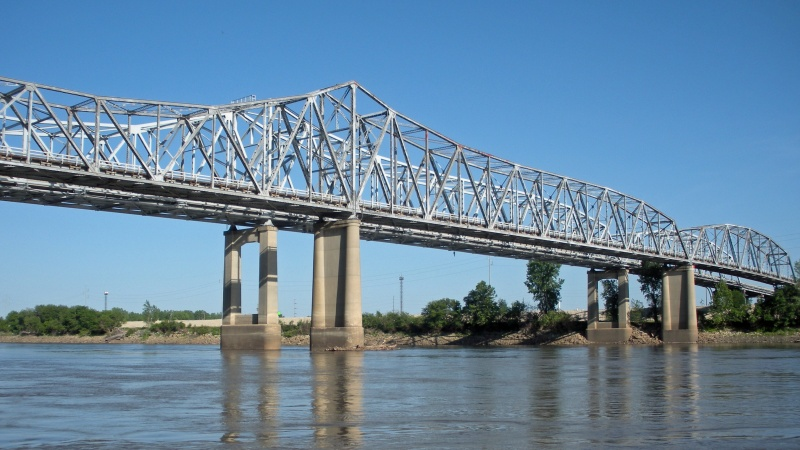bridge: (1, 75, 797, 300)
